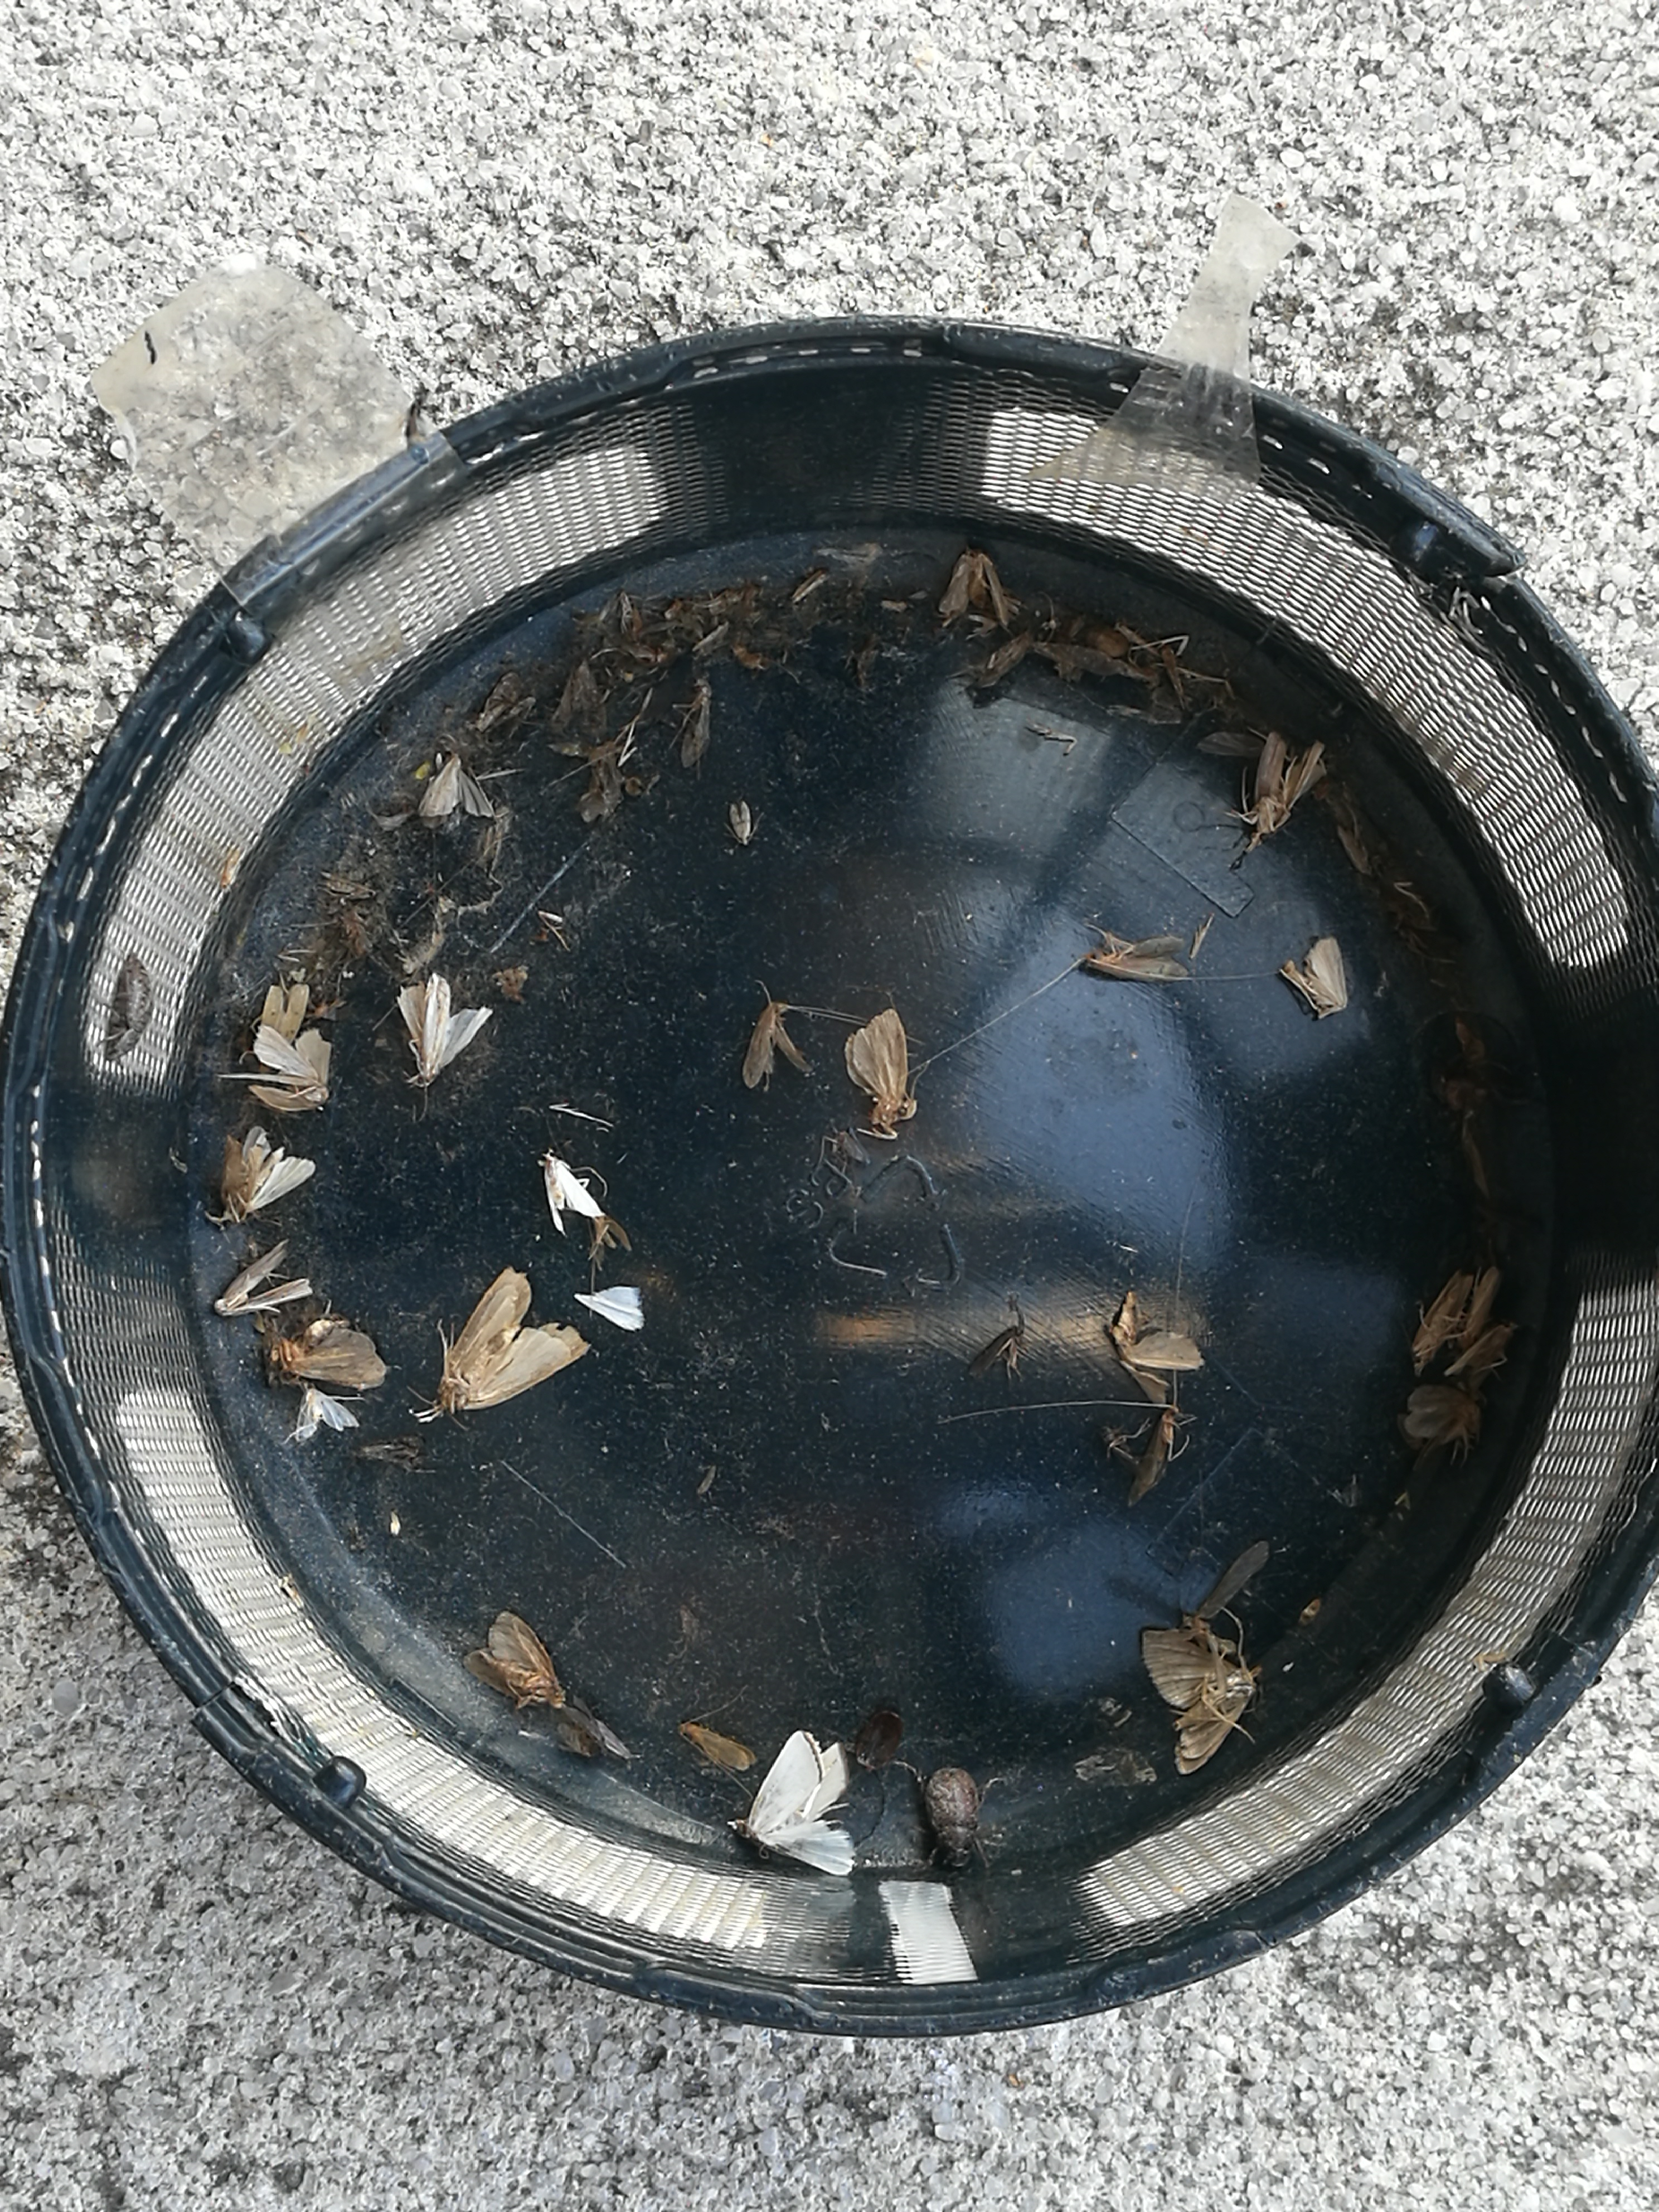beetle: (925, 1770, 979, 1867)
mosquito: (1412, 1271, 1471, 1367), (1127, 1407, 1178, 1505), (1445, 1320, 1518, 1385), (680, 1723, 756, 1770), (1082, 953, 1188, 986), (746, 1001, 781, 1087), (1462, 1266, 1497, 1345), (683, 679, 711, 763)
moth: (437, 1266, 592, 1411), (1141, 1630, 1251, 1773), (748, 1731, 854, 1876), (396, 975, 493, 1085), (464, 1613, 568, 1707), (847, 1008, 917, 1123), (214, 1240, 310, 1315), (249, 1026, 333, 1109), (237, 1127, 317, 1214), (1255, 733, 1326, 829), (270, 1332, 385, 1388), (544, 1151, 605, 1235), (938, 550, 1007, 624), (1281, 939, 1347, 1015), (554, 660, 606, 745), (420, 758, 493, 817), (1405, 1386, 1481, 1440), (1114, 1324, 1202, 1369), (296, 1388, 361, 1442), (730, 801, 751, 843)
